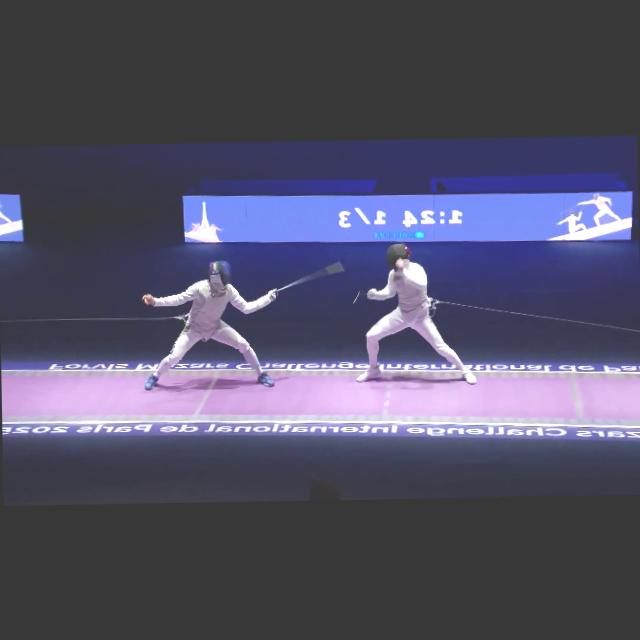blade: (266, 263, 346, 298), (346, 284, 381, 306)
